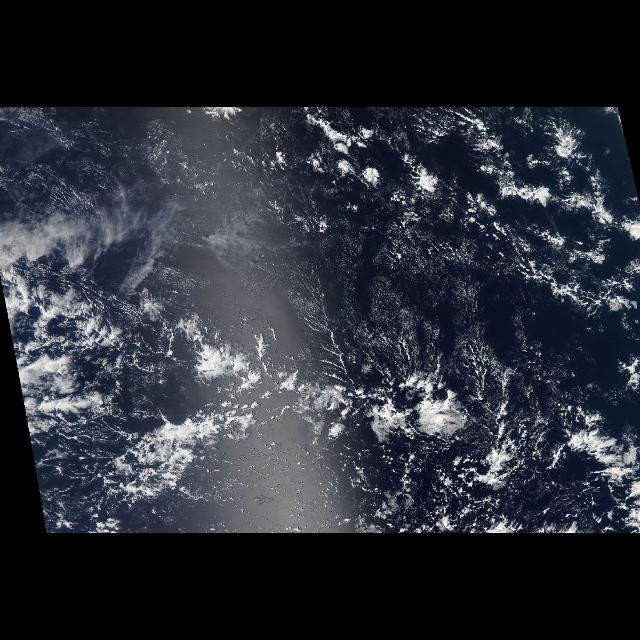Fish: (12, 292, 598, 518)
Sugar: (189, 194, 513, 370)
